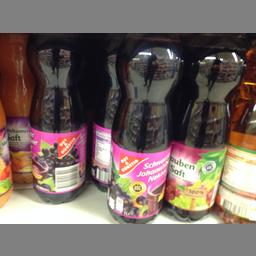juice: (103, 33, 183, 222), (166, 34, 244, 220), (24, 34, 87, 204)
